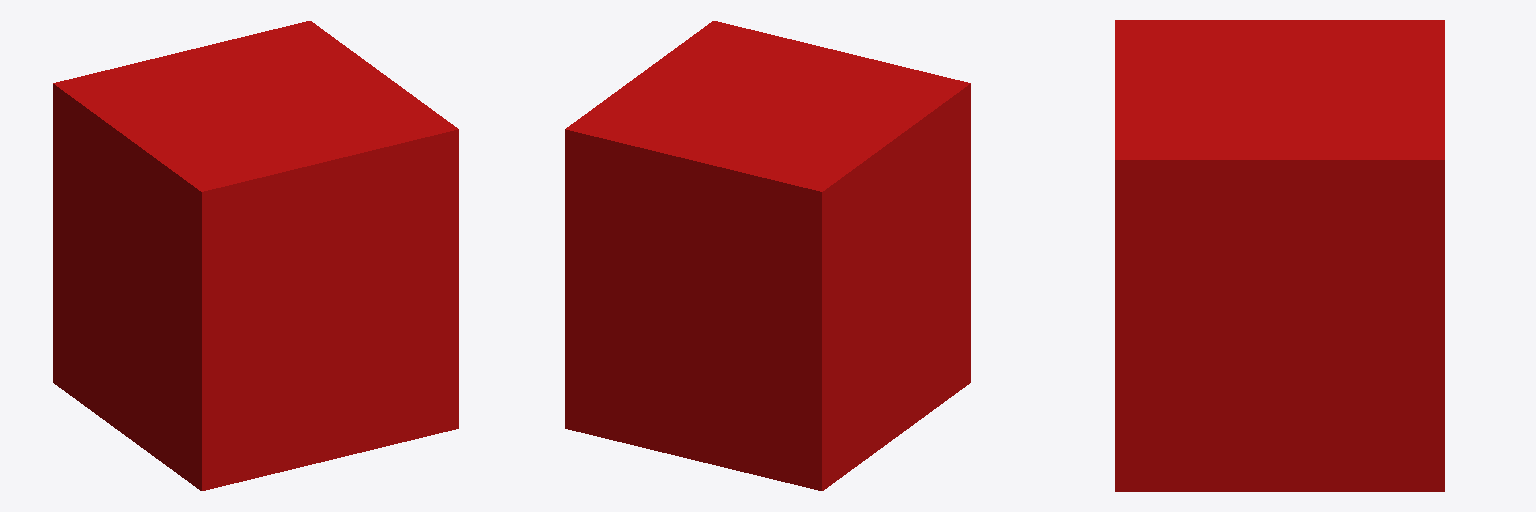
URDF robot description (large_simple_cuboid2):
<?xml version="1.0"?>
<robot name="large_simple_cuboid2">
  <link name="base_link">
    <inertial>
      <origin xyz="0 0 0" rpy="0 0 0" />
      <mass value="1.0" />
      <inertia ixx="0.000363" ixy="0" ixz="0" iyy="0.000363" iyz="0"
          izz="0.00006" />
    </inertial>
    <visual>
      <origin xyz="0 0 0" rpy="0 0 0" />
      <geometry>
        <box size="0.18 0.18 0.2" />
      </geometry>
      <material name="red">
        <color rgba="0.8 0.1 0.1 0.9" />
      </material>
    </visual>

    <!--
      This places contact spheres on the corners of the visual box and a
      *slightly* smaller inset contact box (centered on the visual origin). This
      accounts for issues in the contact computation providing stable table
      contact *and* supports grasping.
      When the box is in stable contact with the ground plane, the corner
      spheres will provide fixed contact points (simulating distributed contact
      points around the face).  However, for arbitrary grip configuration, the
      slightly inset box will provide contact with a *slight* offset (in this
      case a deviation of 0.0005 m from the visual surface).
      https://github.com/RobotLocomotion/drake/issues/6254 tracks the
      difficulty in supporting face-to-face contact.
     -->
    <collision>
      <geometry>
        <box size="0.179 0.179 0.199" />
      </geometry>
    </collision>

    <collision>
      <origin xyz="-0.09 -0.09 -0.1" rpy="0 0 0"/>
      <geometry>
        <sphere radius="1e-7"/>
      </geometry>
    </collision>
    <collision>
      <origin xyz="-0.09 0.09 -0.1" rpy="0 0 0"/>
      <geometry>
        <sphere radius="1e-7"/>
      </geometry>
    </collision>
    <collision>
      <origin xyz="0.09 0.09 -0.1" rpy="0 0 0"/>
      <geometry>
        <sphere radius="1e-7"/>
      </geometry>
    </collision>
    <collision>
      <origin xyz="0.09 -0.09 -0.1" rpy="0 0 0"/>
      <geometry>
        <sphere radius="1e-7"/>
      </geometry>
    </collision>

    <collision>
      <origin xyz="-0.09 -0.09 0.1" rpy="0 0 0"/>
      <geometry>
        <sphere radius="1e-7"/>
      </geometry>
    </collision>
    <collision>
      <origin xyz="-0.09 0.09 0.1" rpy="0 0 0"/>
      <geometry>
        <sphere radius="1e-7"/>
      </geometry>
    </collision>
    <collision>
      <origin xyz="0.09 0.09 0.1" rpy="0 0 0"/>
      <geometry>
        <sphere radius="1e-7"/>
      </geometry>
    </collision>
    <collision>
      <origin xyz="0.09 -0.09 0.1" rpy="0 0 0"/>
      <geometry>
        <sphere radius="1e-7"/>
      </geometry>
    </collision>

   </link>
</robot>

--- Render facts (derived) ---
The picture shows the robot from 3 angles, left to right: view 1: azimuth 30°, elevation 25°; view 2: azimuth 150°, elevation 25°; view 3: azimuth 270°, elevation 25°; orthographic projection.
Robot: large_simple_cuboid2 — 1 links, 0 joints (none); root link base_link; default pose: every joint at zero.
Links seen in each view (by area): view 1: base_link; view 2: base_link; view 3: base_link.
Link boxes in pixels (x1=…): base_link: x1=53, y1=21, x2=458, y2=490; base_link: x1=565, y1=21, x2=970, y2=490; base_link: x1=1115, y1=20, x2=1444, y2=491.
Bounding box of the posed robot: 0.18 × 0.18 × 0.2 m (x, y, z).
Geometry: primitives only (box / cylinder / sphere), no mesh files.